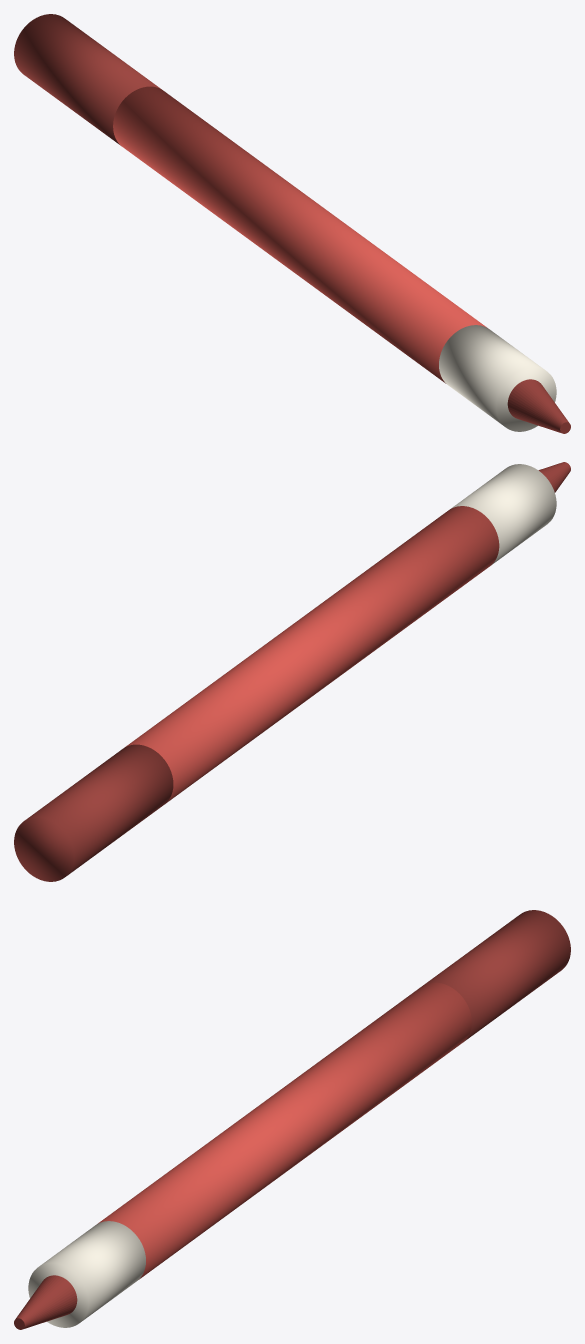
The model's file is marker_circle.glb.
3 renders of one model, top to bottom at view 1: azimuth 30°, elevation 25°; view 2: azimuth 150°, elevation 25°; view 3: azimuth 330°, elevation 25°, orthographic.
Visible parts, largest first — view 1: marker_circle_barrel, marker_circle_cap, marker_circle_grip, marker_circle_tip; view 2: marker_circle_barrel, marker_circle_cap, marker_circle_grip; view 3: marker_circle_barrel, marker_circle_cap, marker_circle_grip, marker_circle_tip.
Boxes of the visible parts, <box> form: marker_circle_barrel: <box>113,86,486,383</box>; marker_circle_cap: <box>14,14,161,145</box>; marker_circle_grip: <box>439,325,556,431</box>; marker_circle_tip: <box>507,379,570,433</box>; marker_circle_barrel: <box>125,506,499,803</box>; marker_circle_cap: <box>14,744,173,881</box>; marker_circle_grip: <box>451,464,556,565</box>; marker_circle_barrel: <box>98,982,471,1279</box>; marker_circle_cap: <box>423,910,570,1041</box>; marker_circle_grip: <box>28,1221,145,1327</box>; marker_circle_tip: <box>14,1275,77,1329</box>.
Bounding box in the file's own units: 0.0095 × 0.0095 × 0.142.
